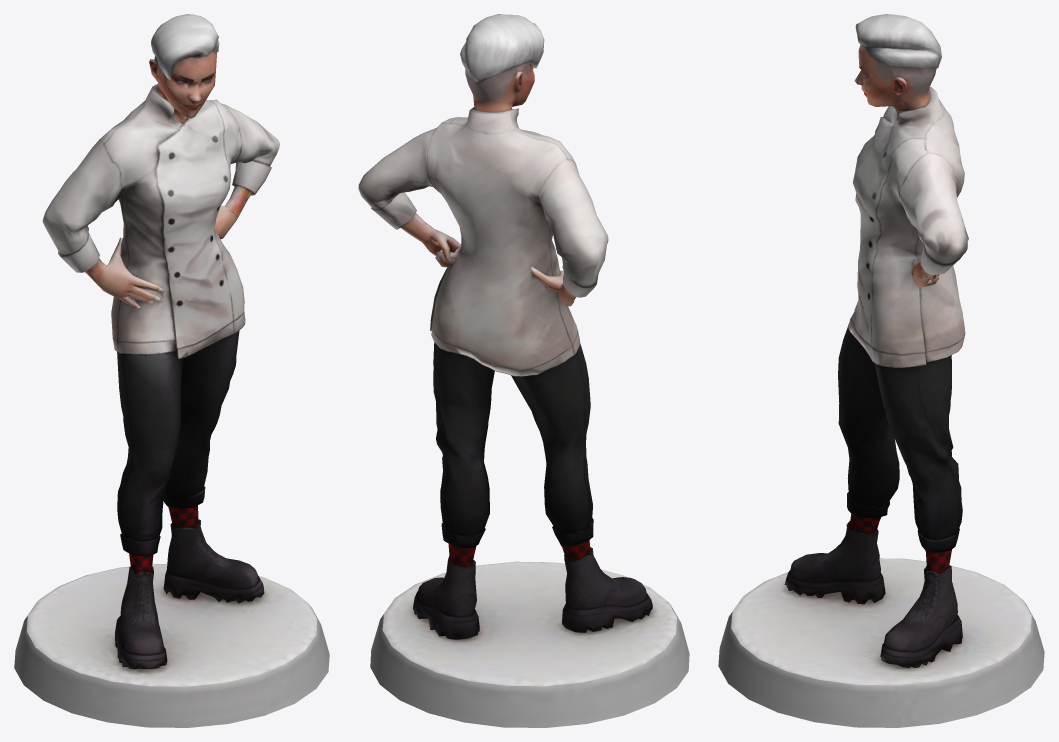
File: pearl_main.obj
3 renders of one model, left to right at view 1: azimuth 30°, elevation 25°; view 2: azimuth 150°, elevation 25°; view 3: azimuth 270°, elevation 25°, orthographic. The views are drawn at different scales.
Parts seen in each view (by area): view 1: whiteMain_0; view 2: whiteMain_0; view 3: whiteMain_0.
Boxes of the visible parts, x1=… form: whiteMain_0: x1=14, y1=14, x2=329, y2=727; whiteMain_0: x1=358, y1=14, x2=689, y2=727; whiteMain_0: x1=718, y1=14, x2=1044, y2=727.
Size of the model in its own units: 0.794 by 1.75 by 0.794.
